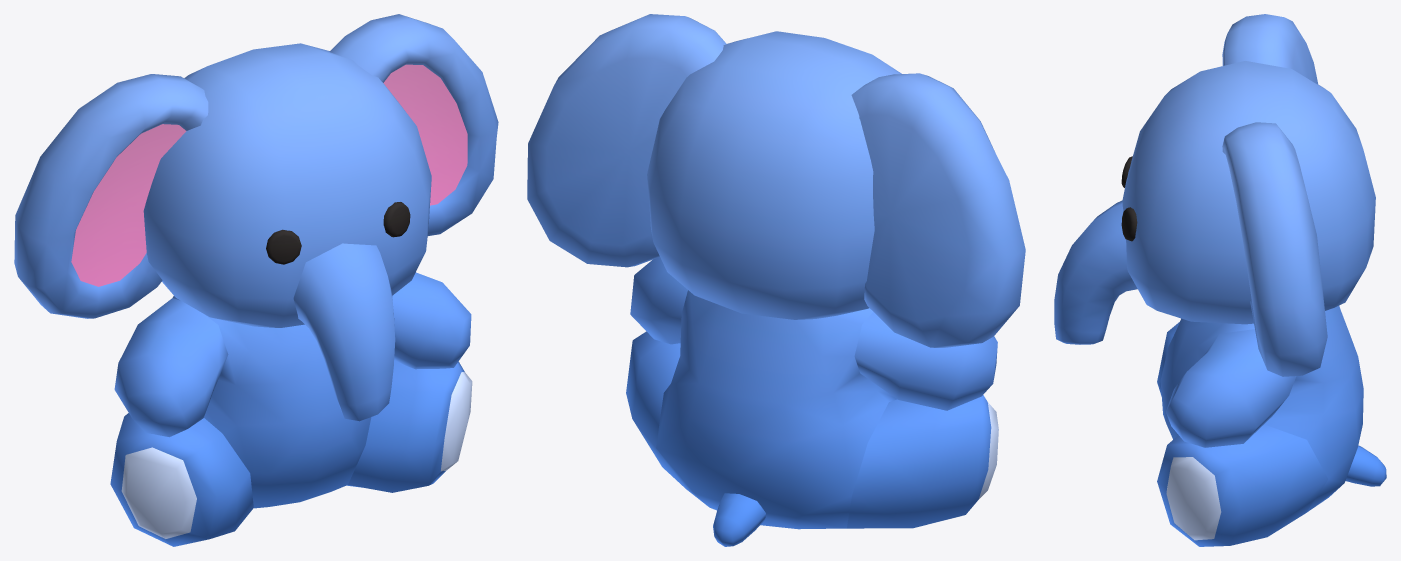
The model's file is Elephant_01.glb.
3 renders of one model, left to right at view 1: azimuth 30°, elevation 25°; view 2: azimuth 150°, elevation 25°; view 3: azimuth 270°, elevation 25°, orthographic. The views are drawn at different scales.
Visible parts, largest first — view 1: Elephant_01; view 2: Elephant_01; view 3: Elephant_01.
Part boxes in pixels (x1=…): Elephant_01: x1=14, y1=14, x2=498, y2=546; Elephant_01: x1=527, y1=14, x2=1025, y2=546; Elephant_01: x1=1054, y1=14, x2=1386, y2=546.
Bounding box in the file's own units: 0.4479 × 0.4082 × 0.2933.
Materials: 2 (2 with a texture image).
